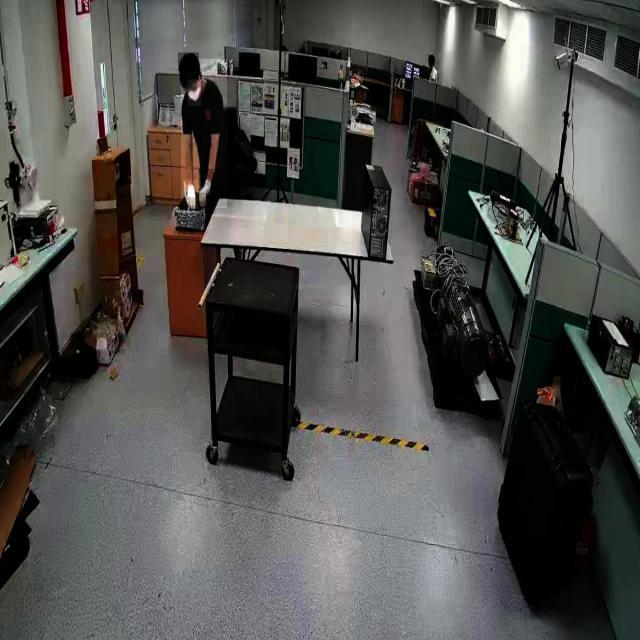gloves: (198, 169, 214, 214), (183, 180, 200, 213)
